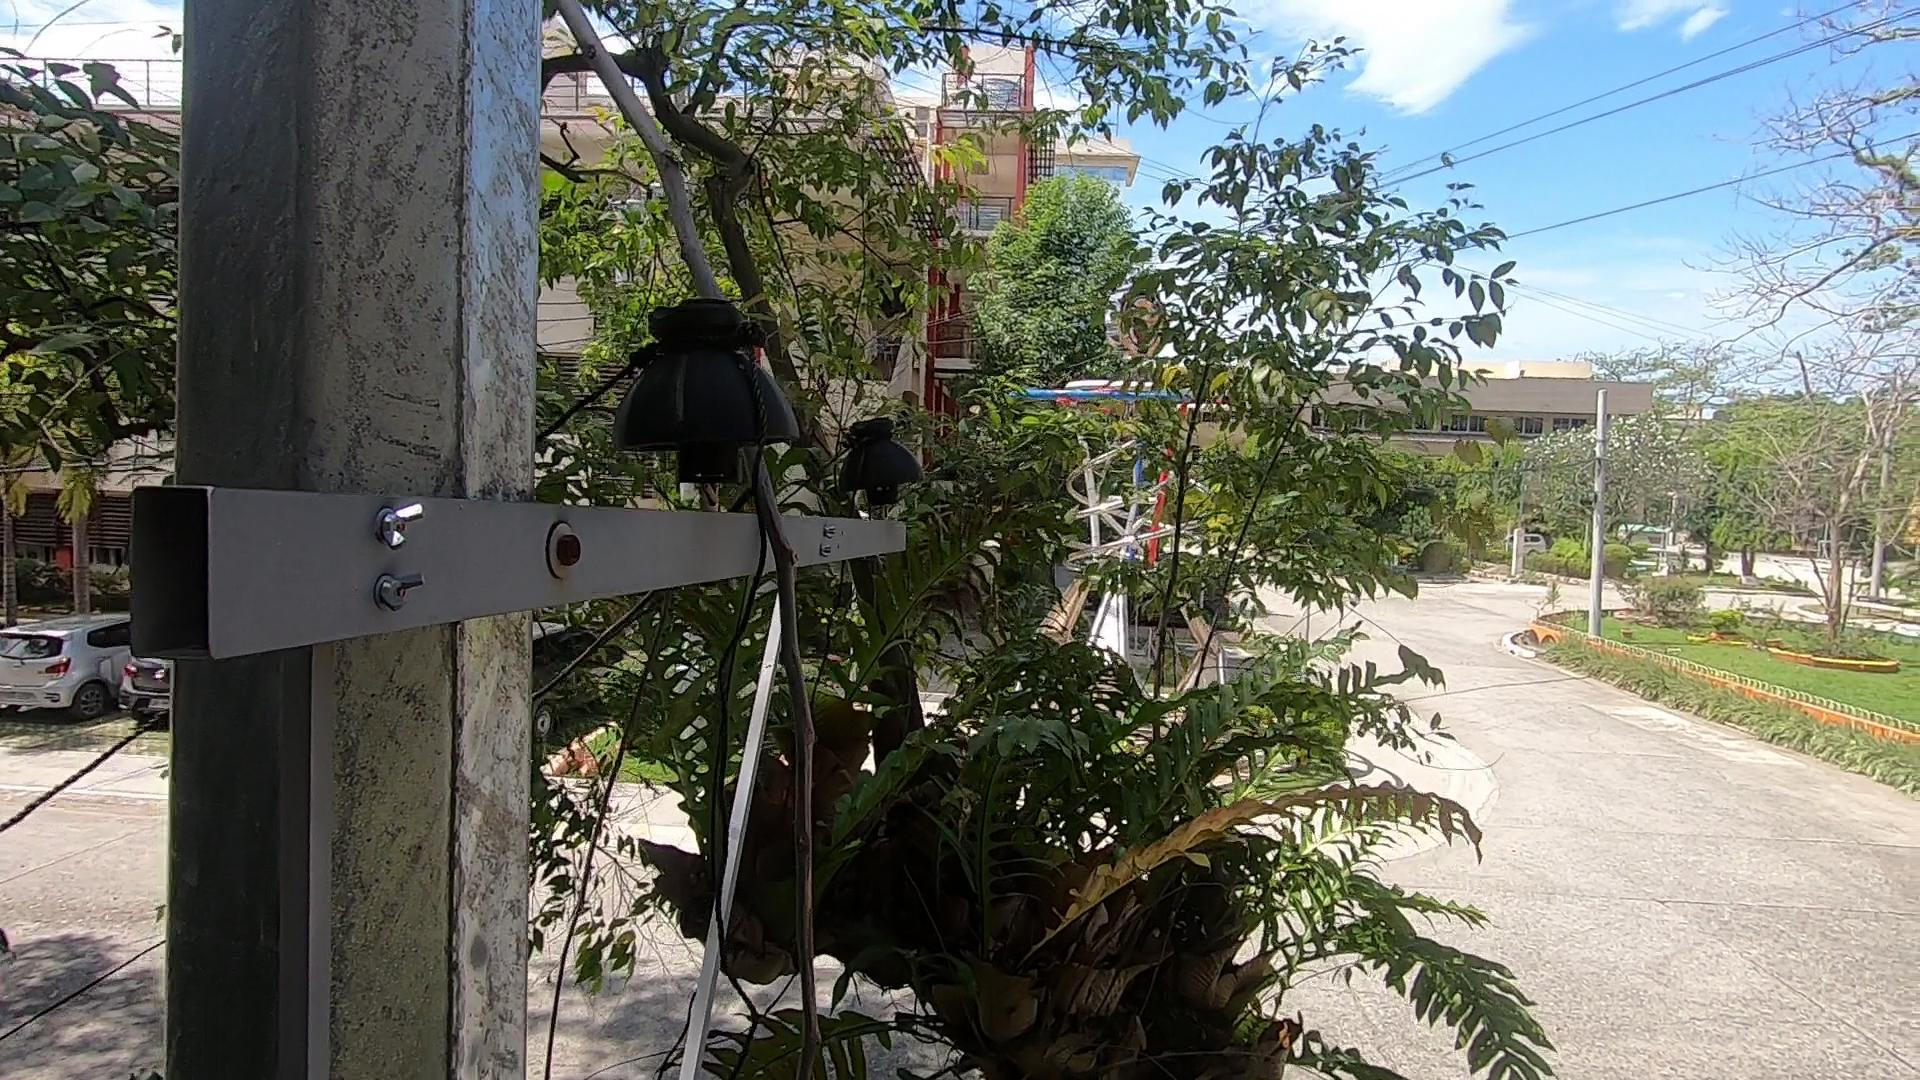tree branch: (535, 1, 890, 1071)
